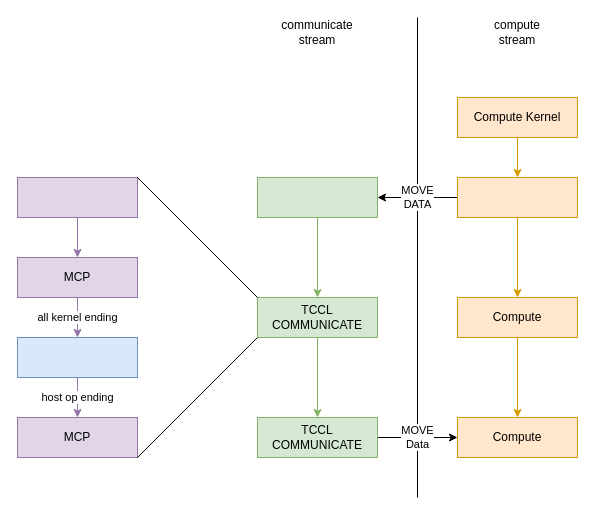
Image size: 595x516. Some labels were removed from this diagram. Here are the shapes that lost their labels. From the top down, the centre of each, then its label:
(x=77, y=197): device allreduce
(x=317, y=197): wait Compute kernel
(x=517, y=197): Sync
(x=77, y=357): host allreduce
